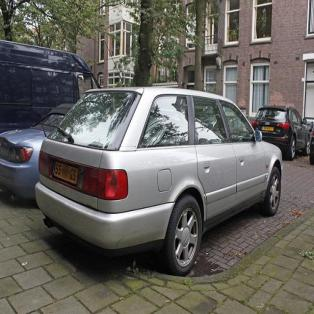Auto: (36, 84, 282, 277)
